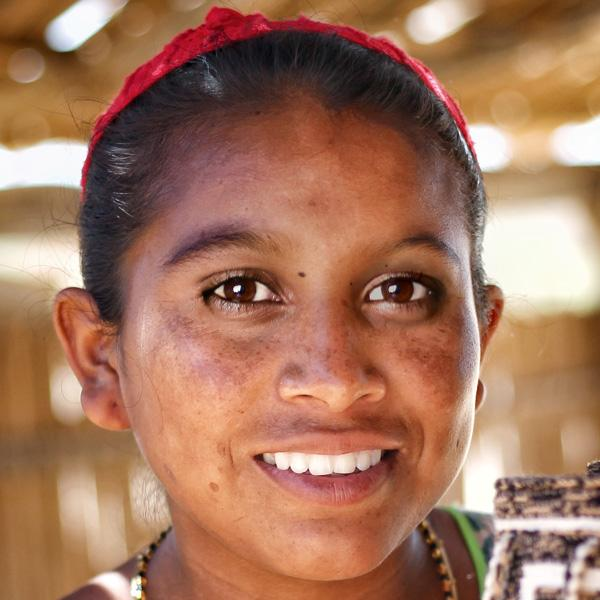Eyes: (351, 258, 449, 326), (187, 260, 294, 320)
